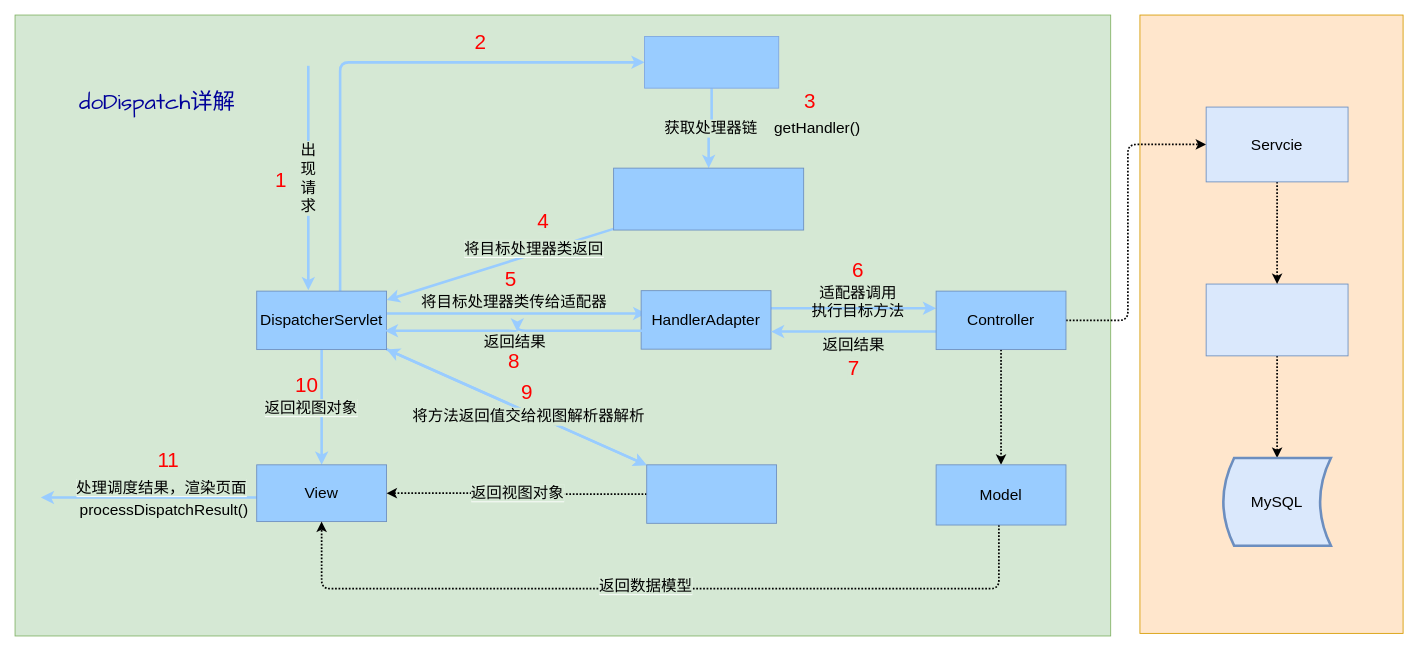
The diagram is 1418 pixels wide and 651 high, and some of its shapes have lost their labels. Here are the shapes that lost their labels. From the top down, the box of each, then its label:
(644, 36, 779, 88): HandlerMapping
(613, 167, 804, 230): HandlerExecutionChain
(1205, 283, 1348, 356): Respository
(646, 464, 777, 523): ViewResolver
